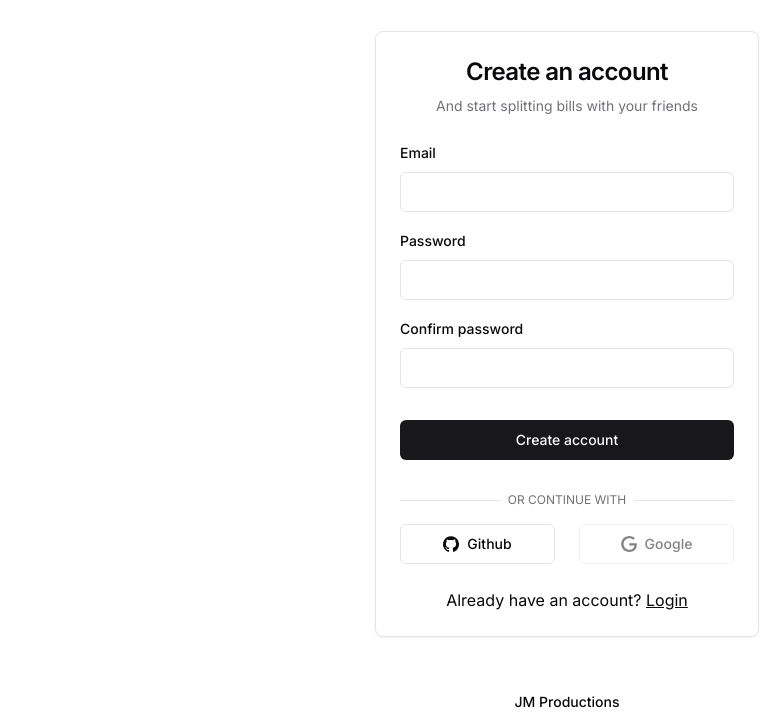
Scenario: Register form tests › Try registering with an empty email
In the password field with test id "register-password": (567,280) [400,260,734,300], type "password123"
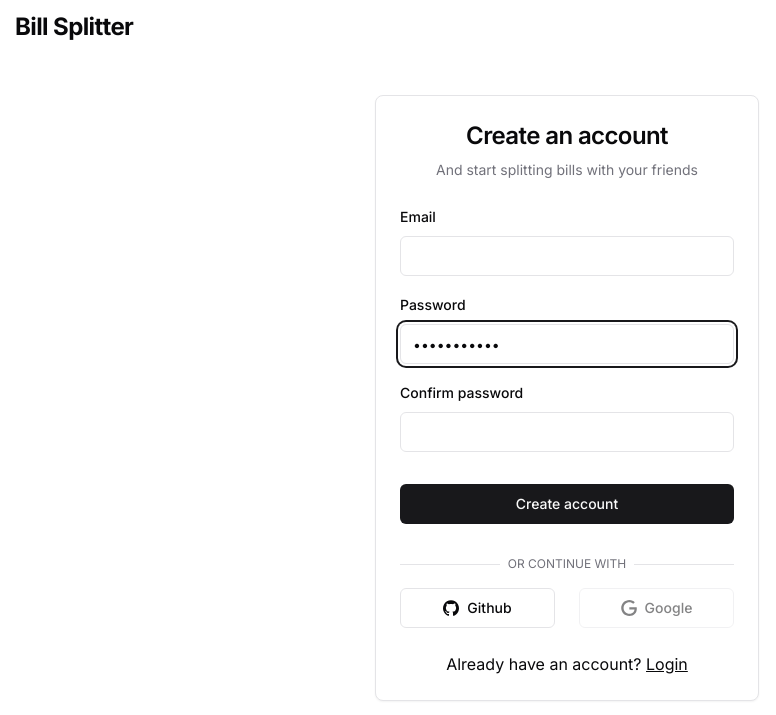
In the password field with test id "register-confirm-password": (567,432) [400,412,734,452], type "password123"
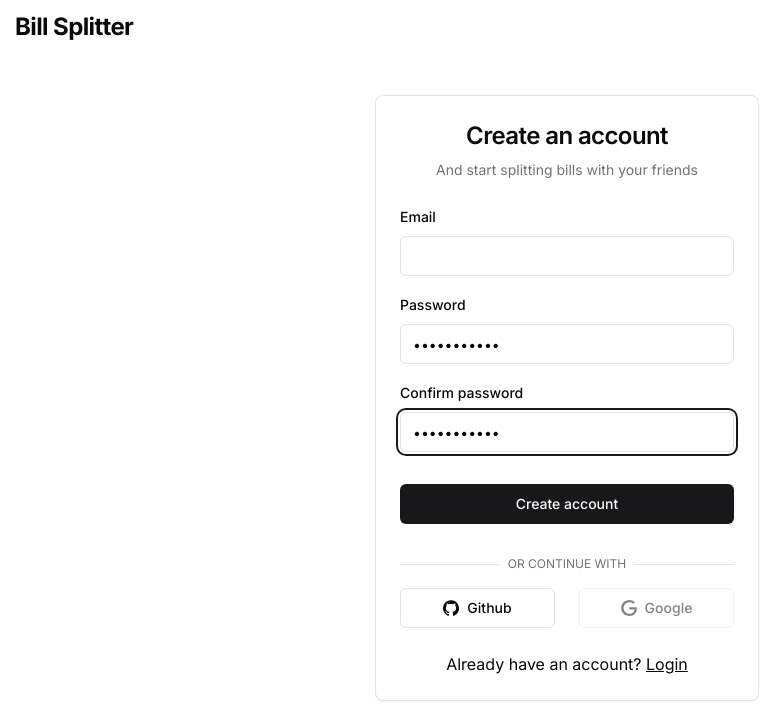
Click the button with test id "register-submit": (567,504) [400,484,734,524]
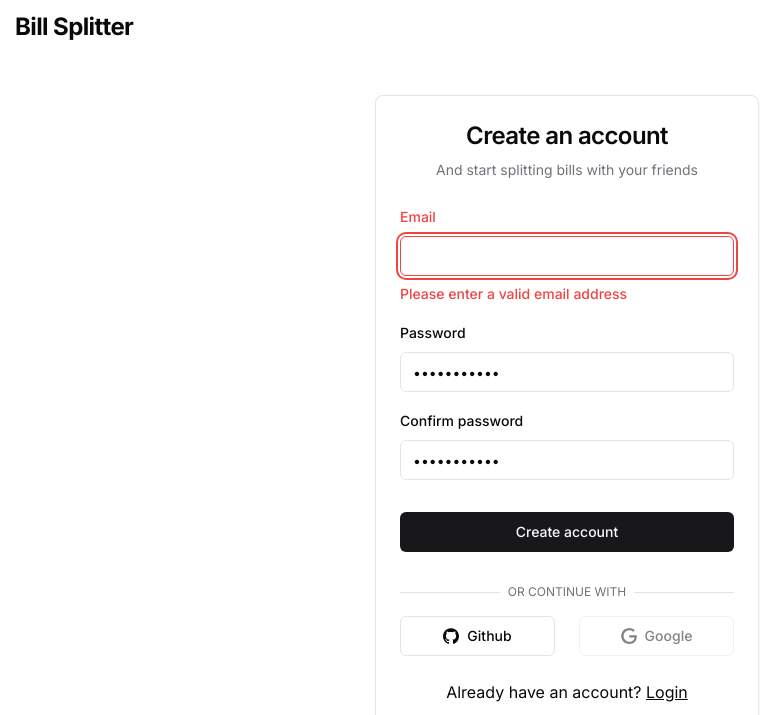
Expected: the form with test id "register-form" shows "Please enter a valid email address", [400,204,734,568]
